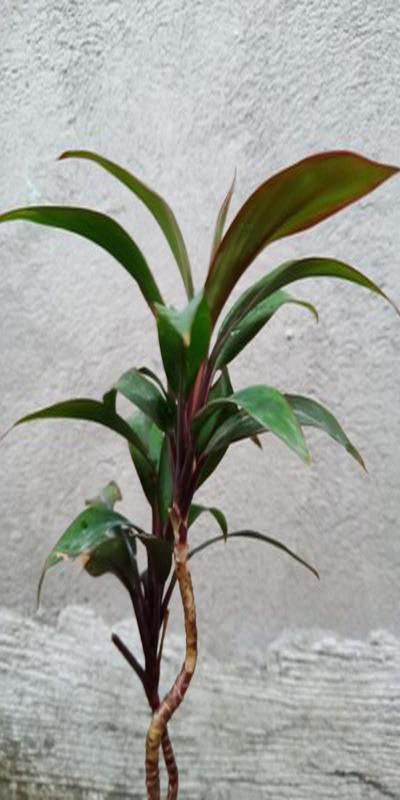Baston de san jose: (43, 148, 351, 787)
